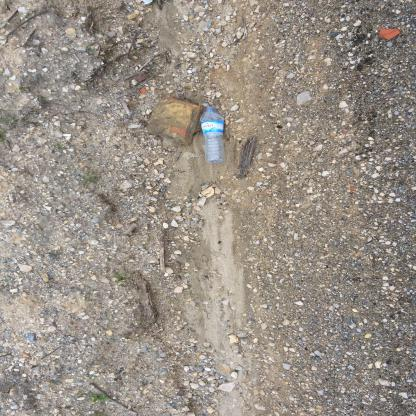plastik: (200, 107, 226, 164)
